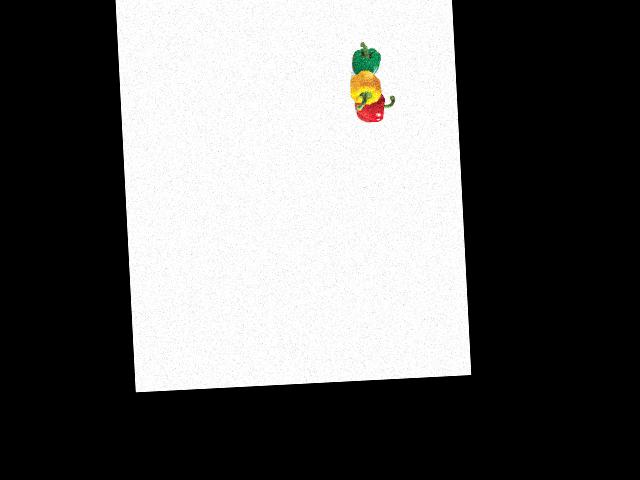bell_pepper: (348, 42, 384, 79)
